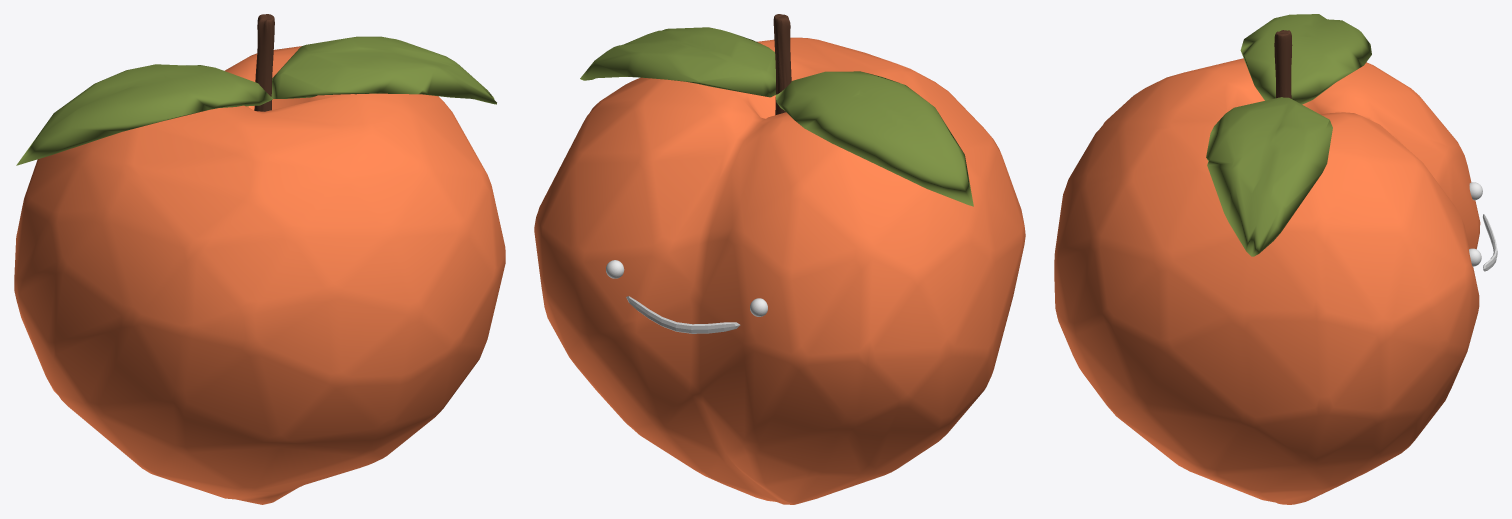
The model's file is untitle2.gltf.
3 renders of one model, left to right at view 1: azimuth 30°, elevation 25°; view 2: azimuth 150°, elevation 25°; view 3: azimuth 270°, elevation 25°, orthographic. The views are drawn at different scales.
Parts seen in each view (by area): view 1: Peach, Leaves, stem; view 2: Peach, Leaves, stem, Cube.001; view 3: Peach, Leaves, stem.
Boxes of the visible parts, bbox=[...] form: Peach: bbox=[14, 46, 505, 504]; Leaves: bbox=[16, 36, 496, 165]; stem: bbox=[254, 14, 274, 111]; Peach: bbox=[534, 37, 1025, 504]; Leaves: bbox=[580, 27, 973, 206]; stem: bbox=[773, 14, 791, 115]; Cube.001: bbox=[626, 296, 740, 333]; Peach: bbox=[1054, 58, 1480, 504]; Leaves: bbox=[1206, 14, 1371, 256]; stem: bbox=[1274, 30, 1292, 98].
Bounding box in the file's own units: 219 × 232 × 199.
